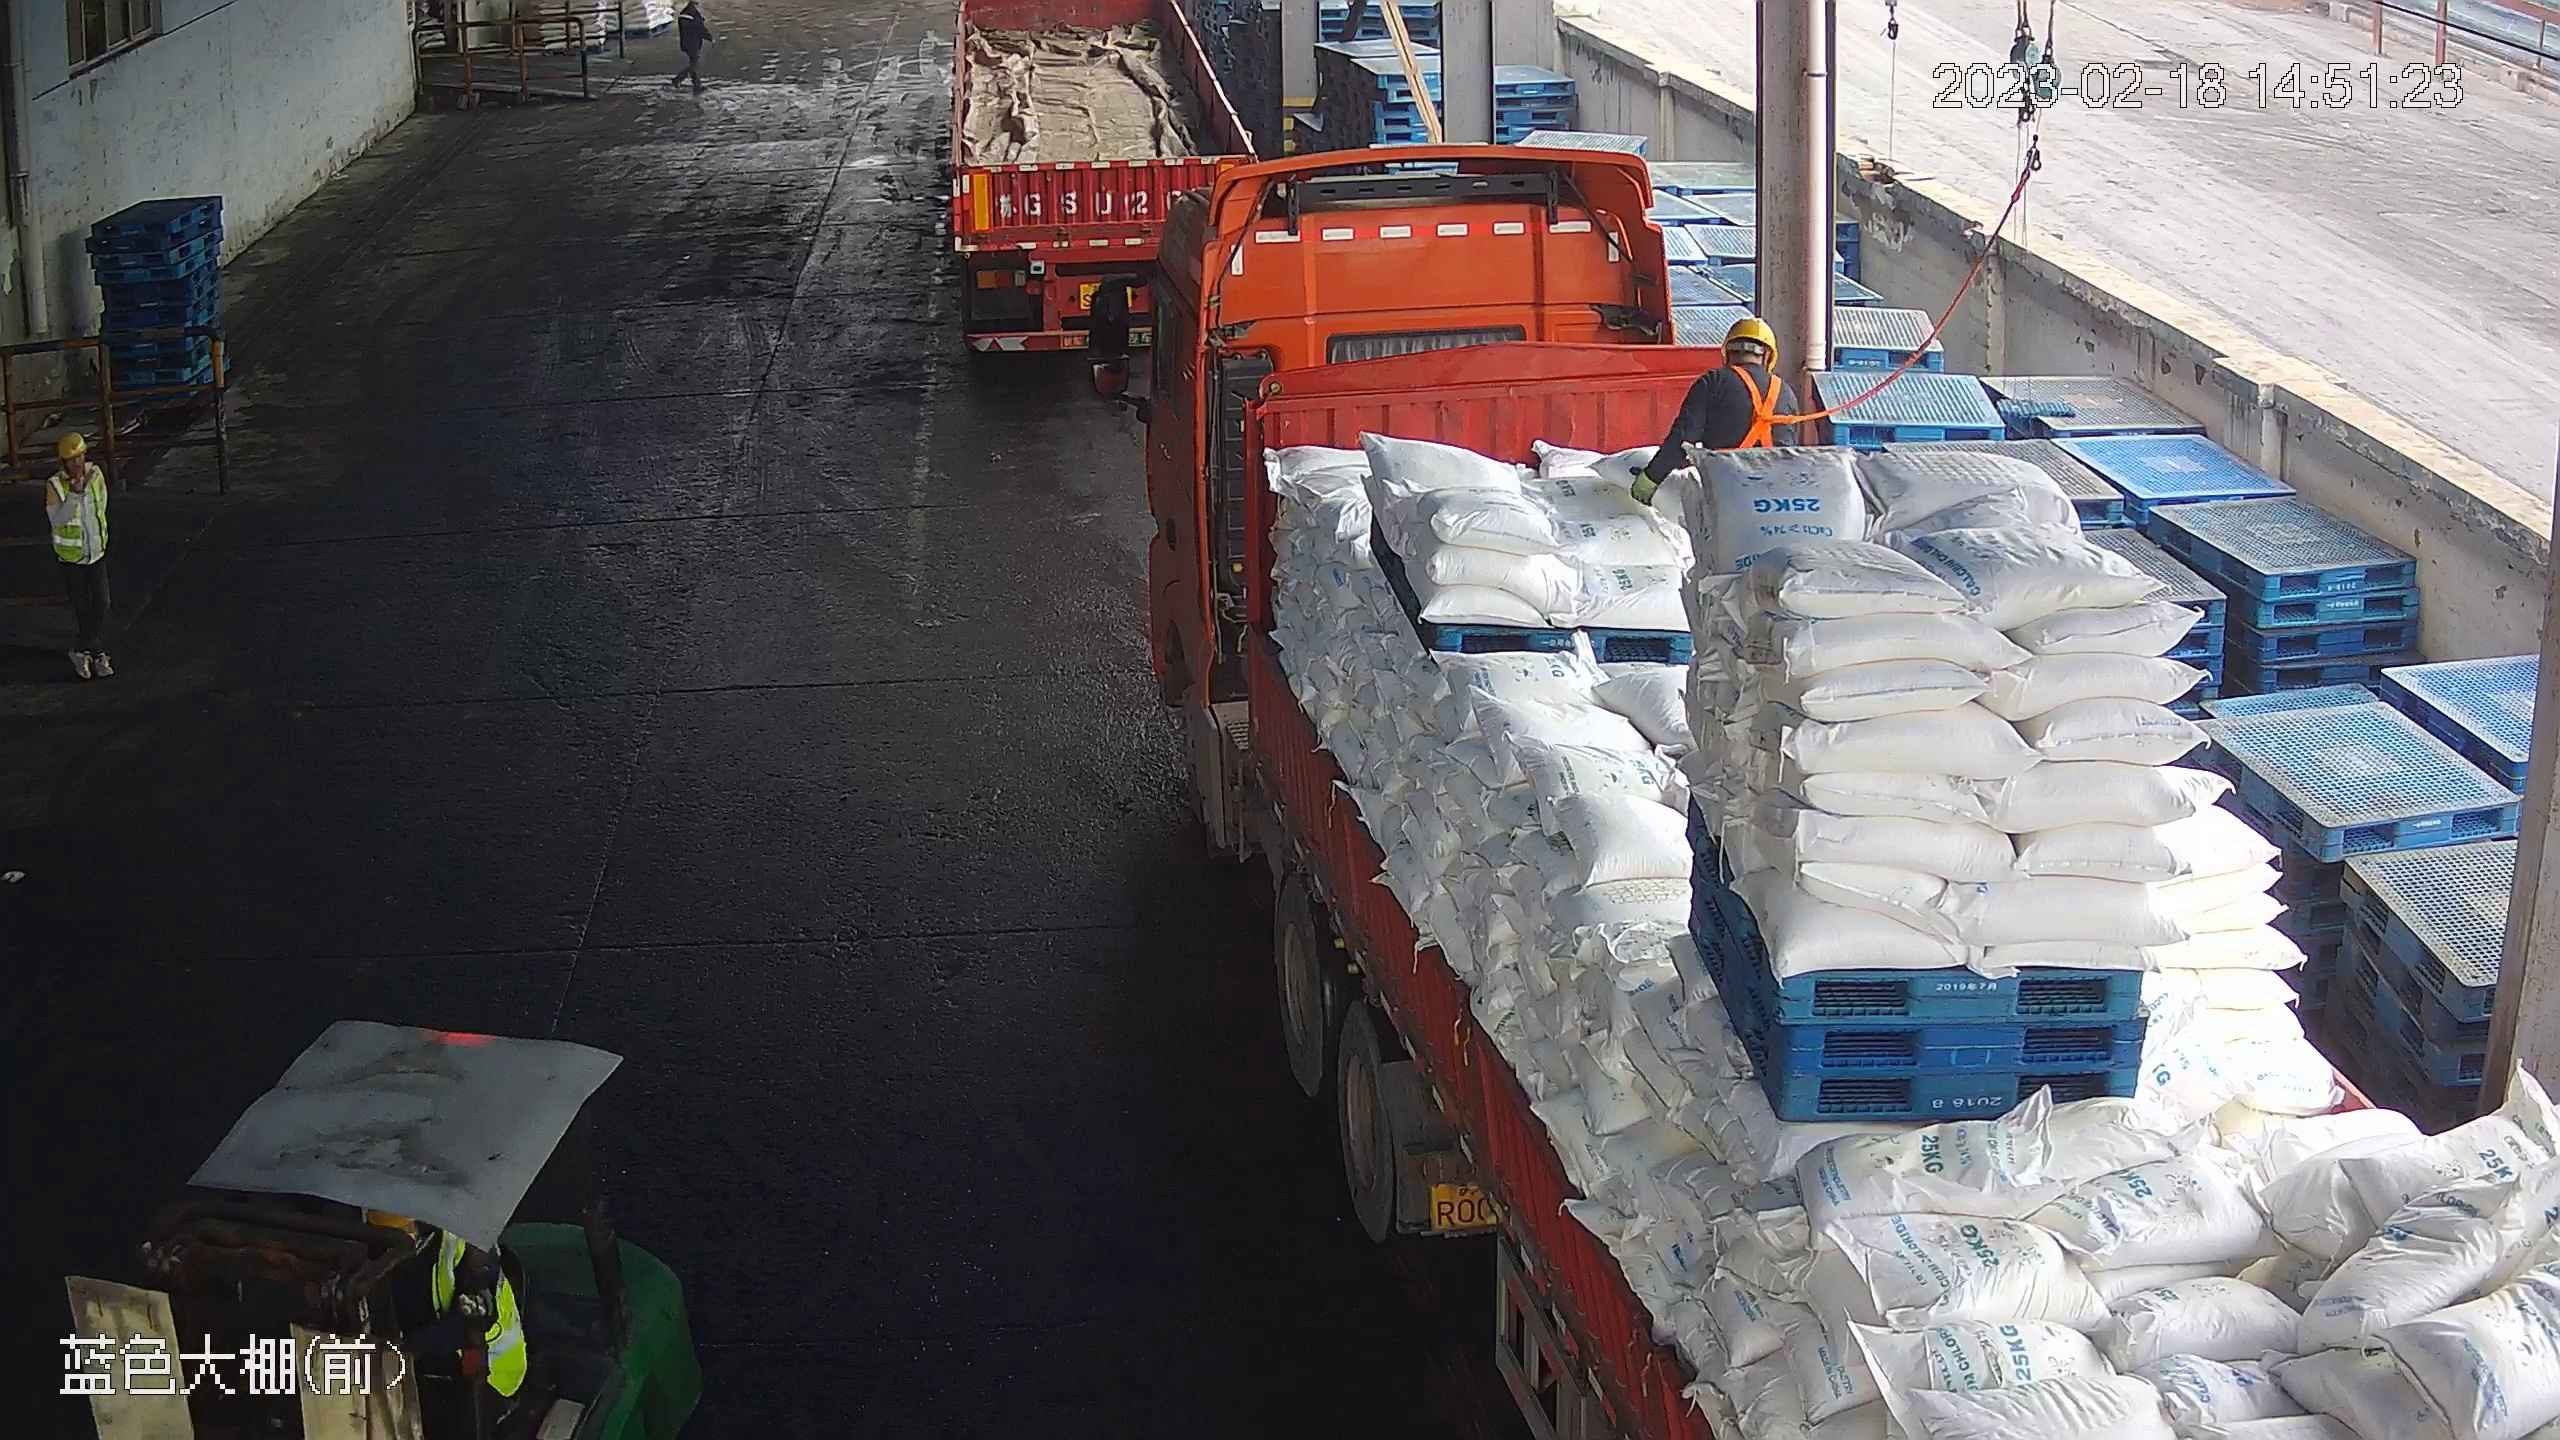belt: (1704, 368, 1794, 456)
head: (1689, 314, 1802, 411), (43, 430, 111, 503)
helmet: (1724, 314, 1780, 359), (57, 428, 90, 458)
people: (37, 426, 120, 695)
truck: (1061, 160, 2558, 1440), (905, 1, 1306, 377)
